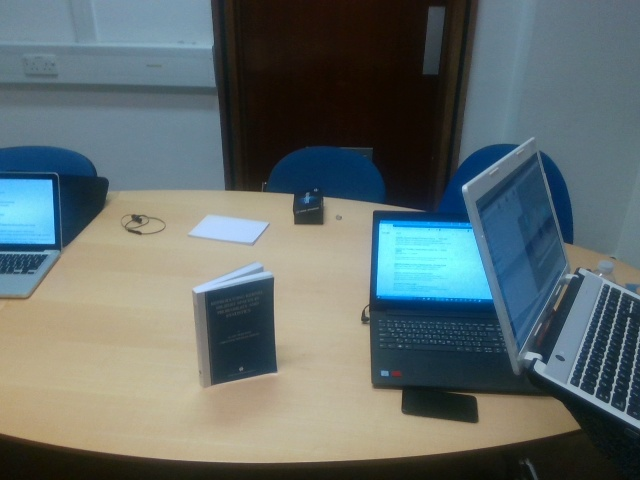book: (190, 263, 279, 391)
